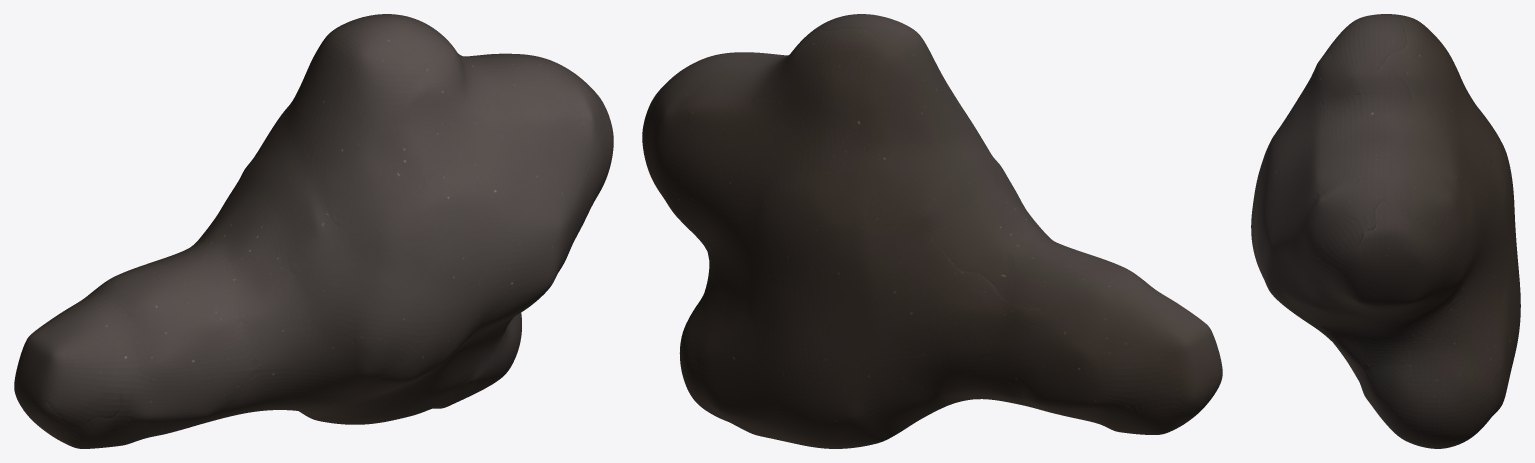
The model's file is though2.glb.
3 views of the same model, side by side, from view 1: azimuth 30°, elevation 25°; view 2: azimuth 150°, elevation 25°; view 3: azimuth 270°, elevation 25° (orthographic). The views are drawn at different scales.
Visible parts, largest first — view 1: Mball.012; view 2: Mball.012; view 3: Mball.012.
Boxes of the visible parts, <box> form: Mball.012: <box>14,14,613,448</box>; Mball.012: <box>642,14,1222,448</box>; Mball.012: <box>1251,14,1520,448</box>.
Size of the model in its own units: 0.6873 by 0.4794 by 0.3063.
1 material, 1 textured.
